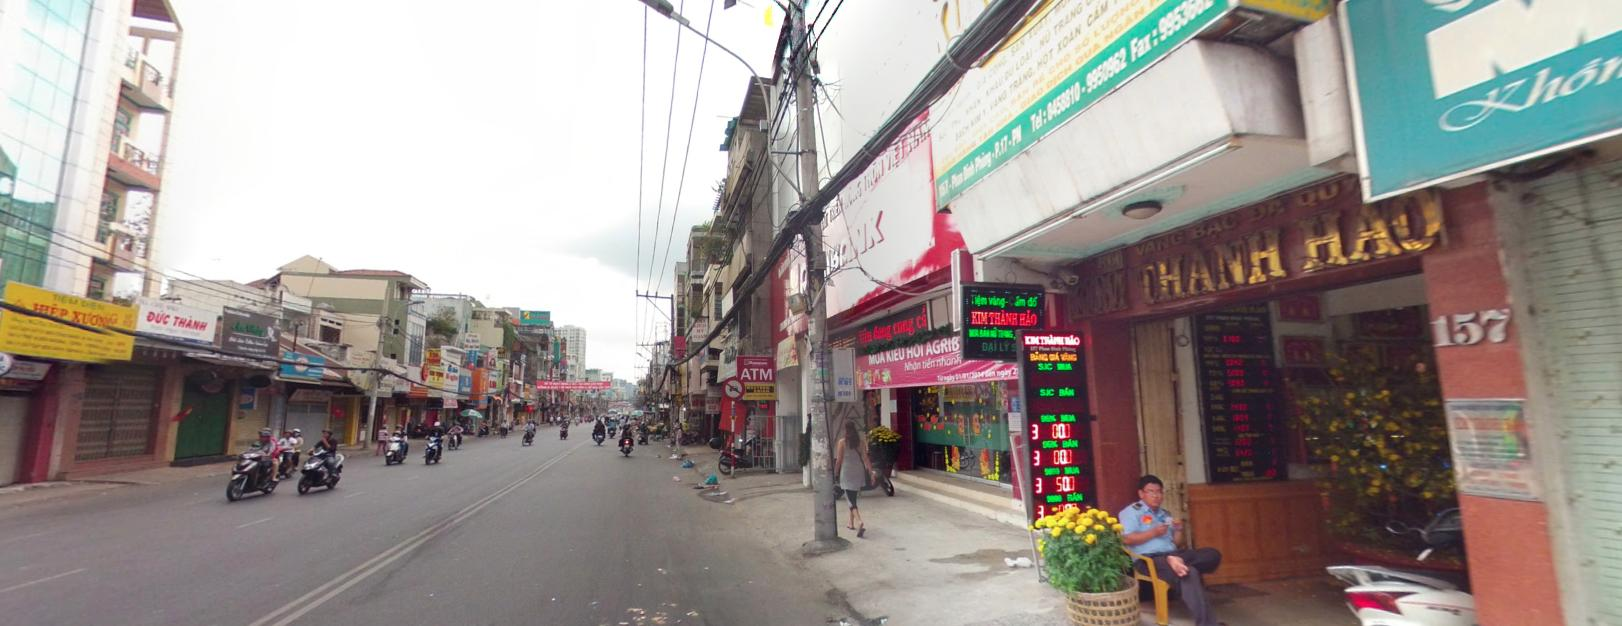Cam con lai: (722, 374, 745, 399)
